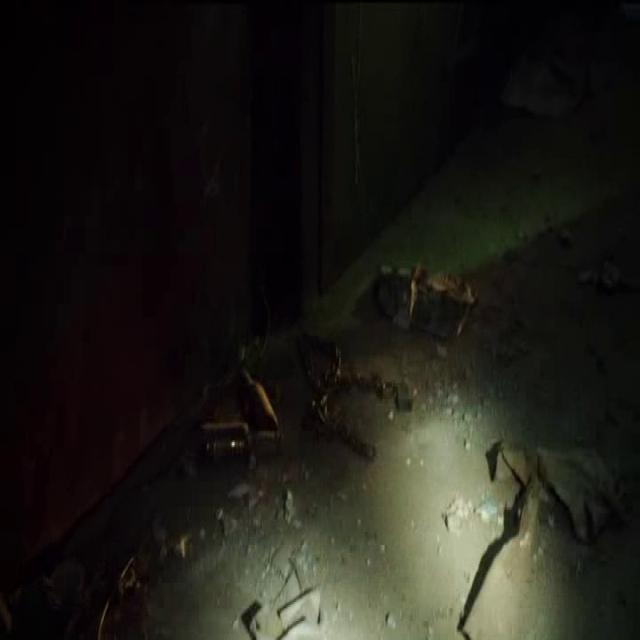Bottle: (189, 411, 285, 477), (232, 358, 281, 442)
